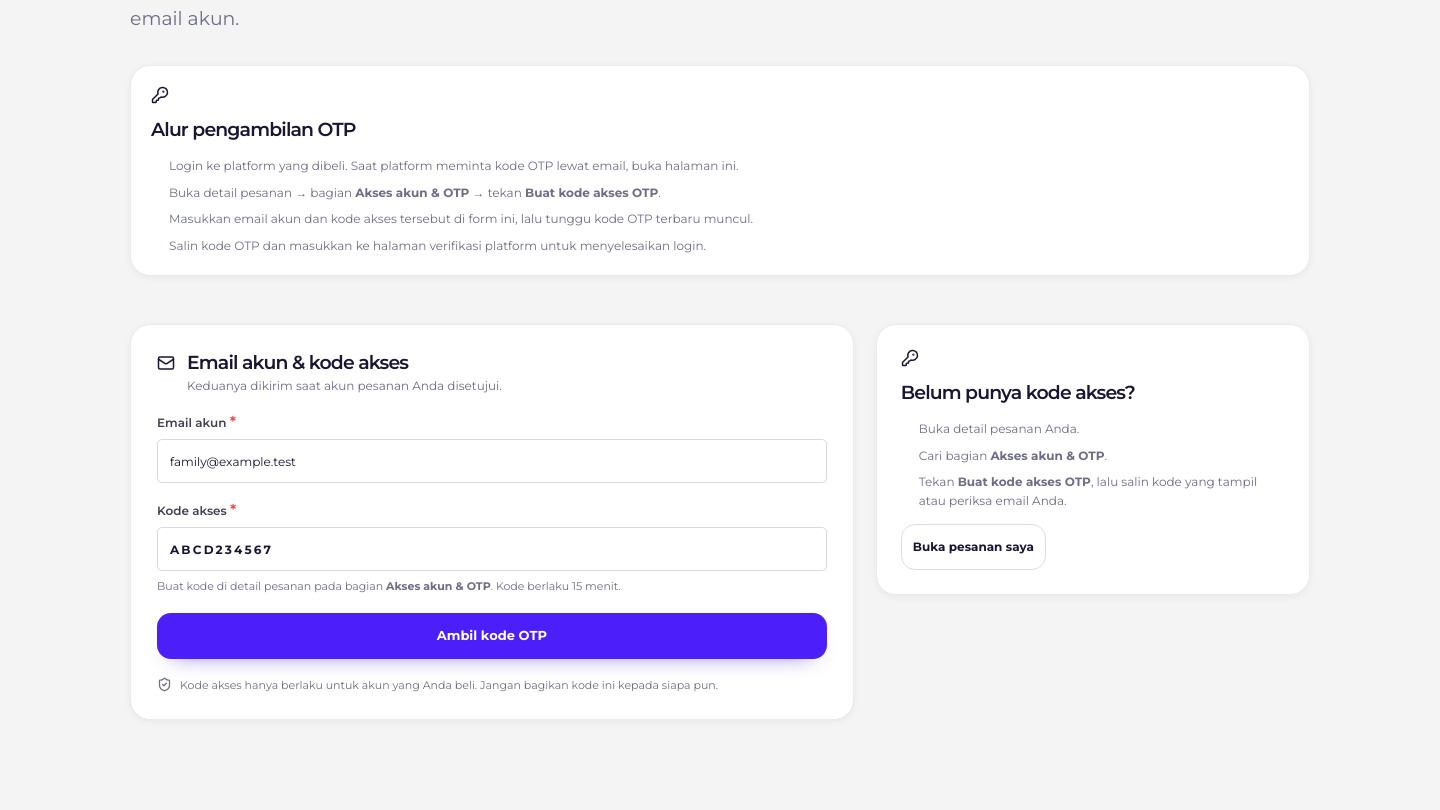
Test: halaman ambil OTP akun › mengisi form dari tautan pesanan lalu menampilkan OTP
The width and height of the screenshot is (1440, 810).
(page scrolled)
expect the heading "Alur pengambilan OTP" is shown: met, box [151,118,356,143]
expect the list item "Salin kode OTP dan masukkan ke halaman verifikasi platform" is shown: met, box [169,238,706,253]
Click the button "Ambil kode OTP".
click(492, 636)  # box [157,613,827,659]
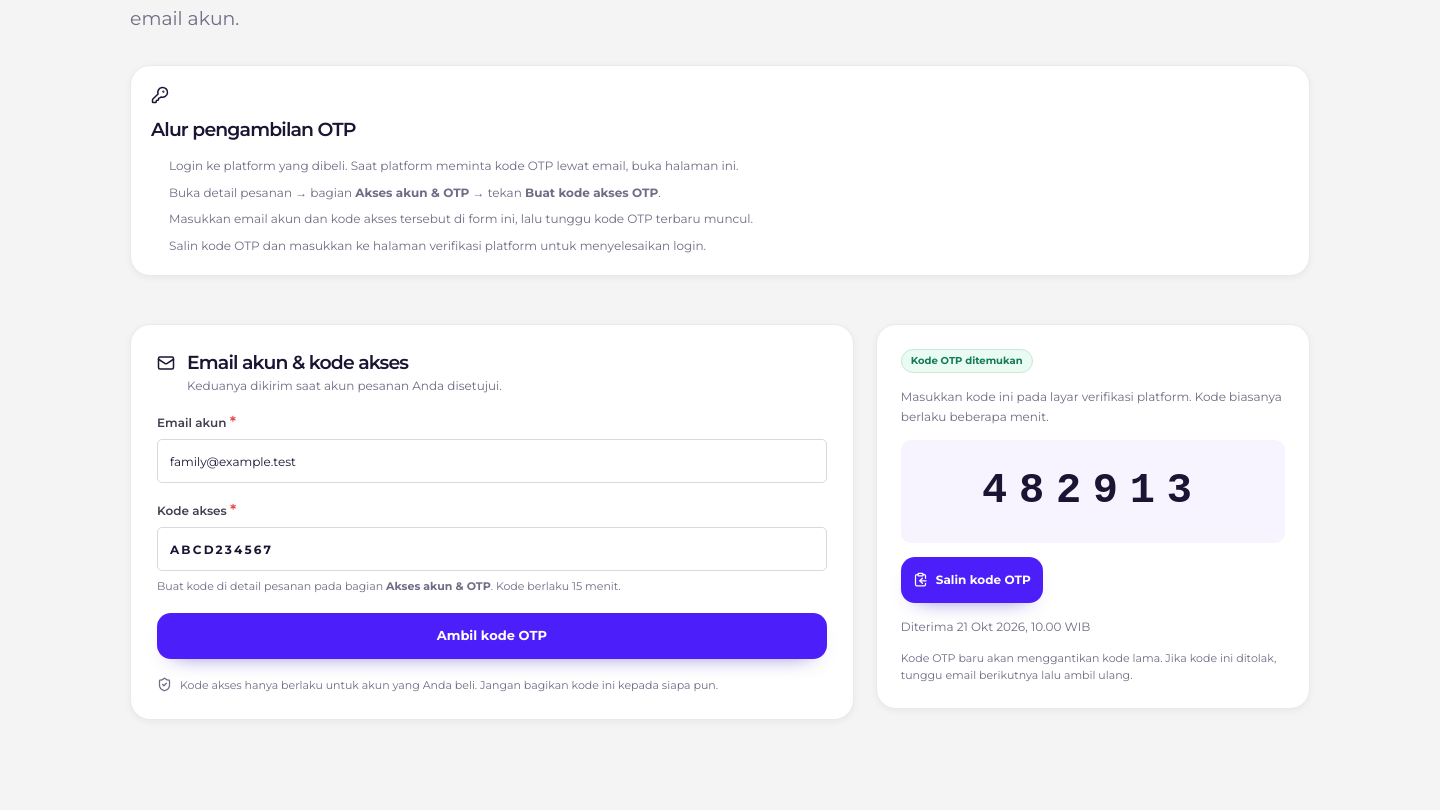
expect the text "482913" is shown: met, box [901,440,1285,543]
expect the button "Salin kode OTP" is shown: met, box [901,557,1043,603]
